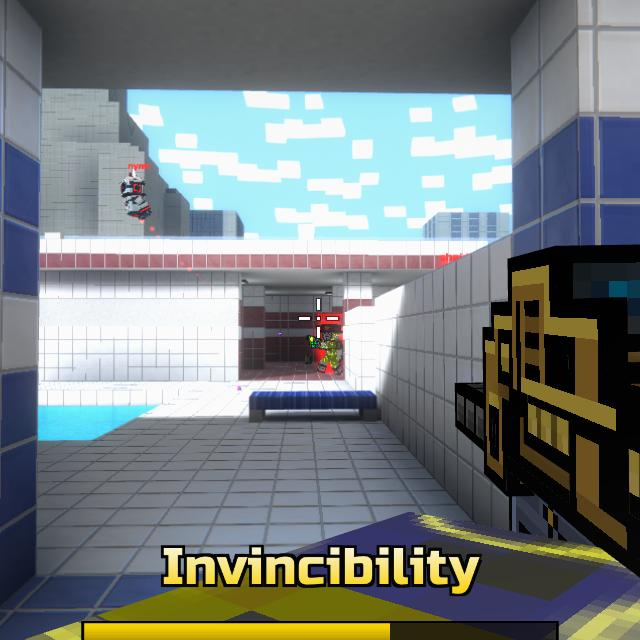Enemy: (316, 324, 343, 376)
